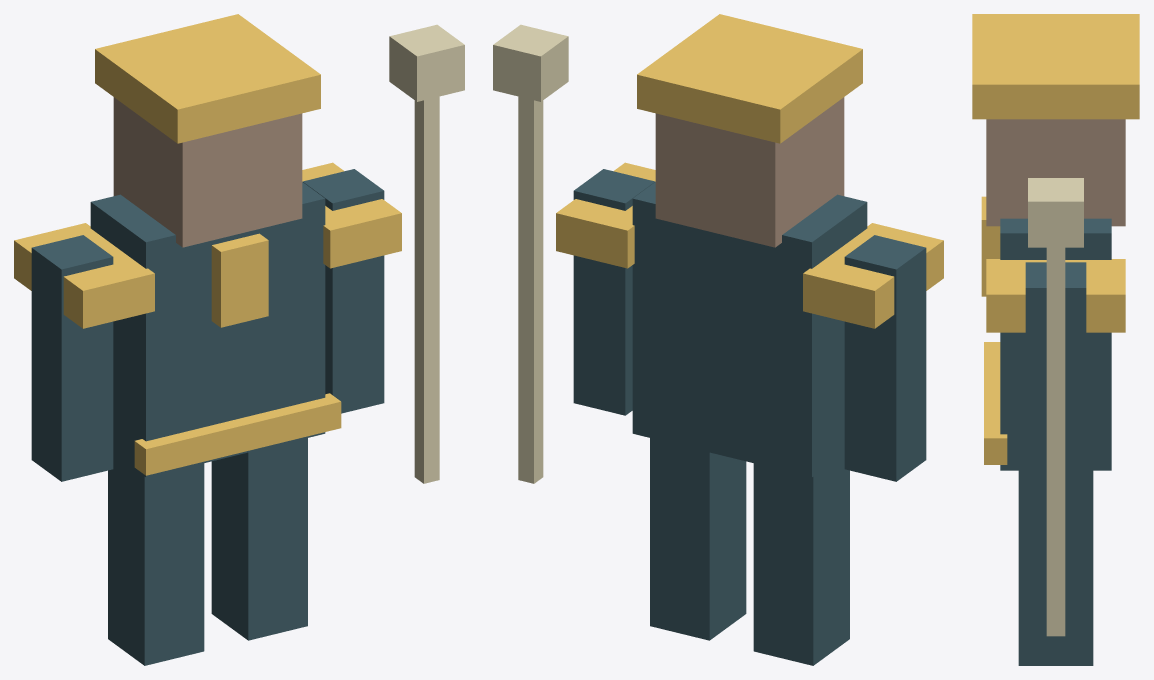
Rendered from 09_eryk_brightlock_fixer_from.glb.
3 views of the same model, side by side, from view 1: azimuth 30°, elevation 25°; view 2: azimuth 150°, elevation 25°; view 3: azimuth 270°, elevation 25° (orthographic).
Parts seen in each view (by area): view 1: Eryk Brightlock, Fixer from; view 2: Eryk Brightlock, Fixer from; view 3: Eryk Brightlock, Fixer from.
Part boxes in pixels (box(x1,y1,x2,y2)): Eryk Brightlock, Fixer from: box(14, 14, 464, 665); Eryk Brightlock, Fixer from: box(493, 14, 943, 665); Eryk Brightlock, Fixer from: box(972, 14, 1139, 665).
Size of the model in its own units: 1.11 by 1.5 by 0.394.
